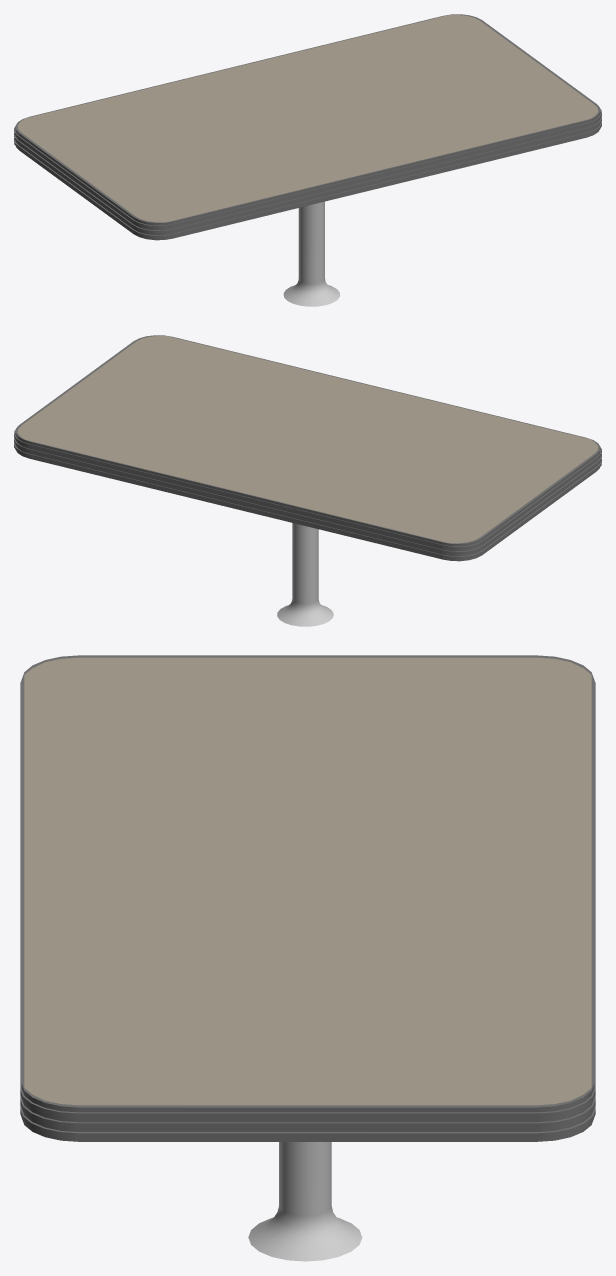
The model's file is Diner_Table_Dirty.fbx.
3 renders of one model, top to bottom at view 1: azimuth 30°, elevation 25°; view 2: azimuth 150°, elevation 25°; view 3: azimuth 270°, elevation 25°, orthographic. The views are drawn at different scales.
Parts seen in each view (by area): view 1: pCube184; view 2: pCube184; view 3: pCube184.
Part boxes in pixels (x1=…): pCube184: x1=14, y1=14, x2=601, y2=306; pCube184: x1=14, y1=335, x2=601, y2=626; pCube184: x1=20, y1=655, x2=595, y2=1261.
Size of the model in its own units: 10.89 by 3.95 by 5.83.
